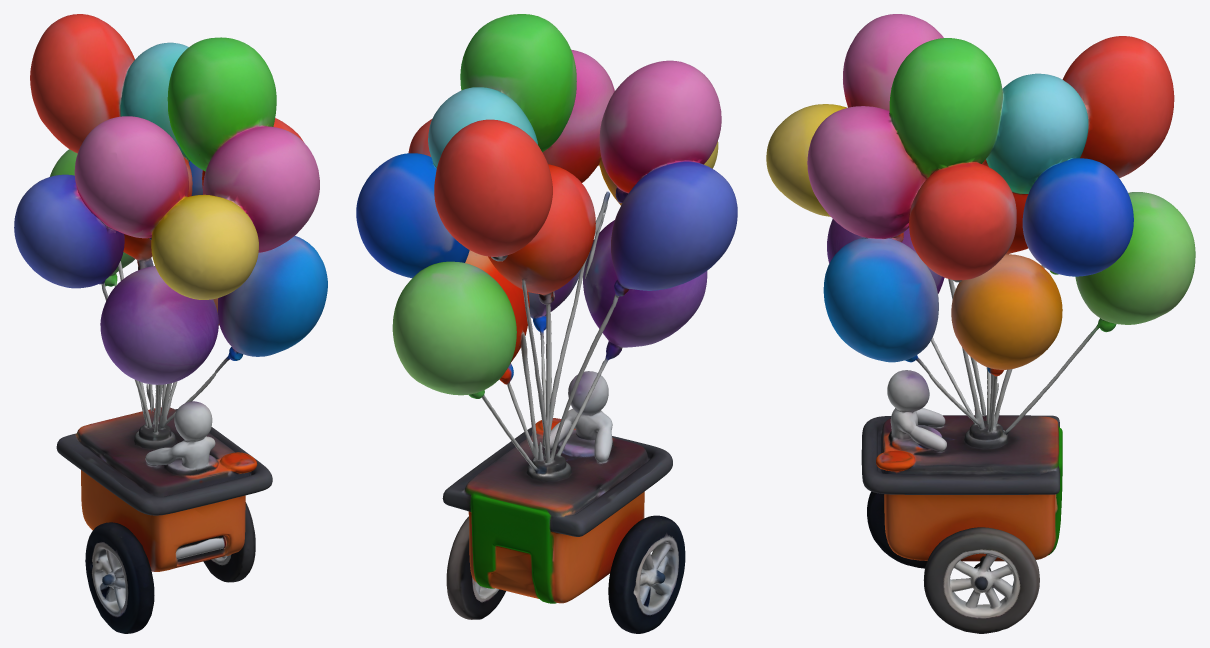
The model's file is plaza-balloon-vendor.glb.
3 views of the same model, side by side, from view 1: azimuth 30°, elevation 25°; view 2: azimuth 150°, elevation 25°; view 3: azimuth 270°, elevation 25° (orthographic). The views are drawn at different scales.
Visible parts, largest first — view 1: tripo_node_5ed3b7b7-66c7-48bc-ab6e-0725b98add8e; view 2: tripo_node_5ed3b7b7-66c7-48bc-ab6e-0725b98add8e; view 3: tripo_node_5ed3b7b7-66c7-48bc-ab6e-0725b98add8e.
Part boxes in pixels (x1,y1,x2,y2): tripo_node_5ed3b7b7-66c7-48bc-ab6e-0725b98add8e: [14, 14, 327, 633]; tripo_node_5ed3b7b7-66c7-48bc-ab6e-0725b98add8e: [356, 14, 737, 633]; tripo_node_5ed3b7b7-66c7-48bc-ab6e-0725b98add8e: [766, 14, 1195, 633].
Size of the model in its own units: 1.37 by 2.5 by 1.68.
1 material, 1 textured.
